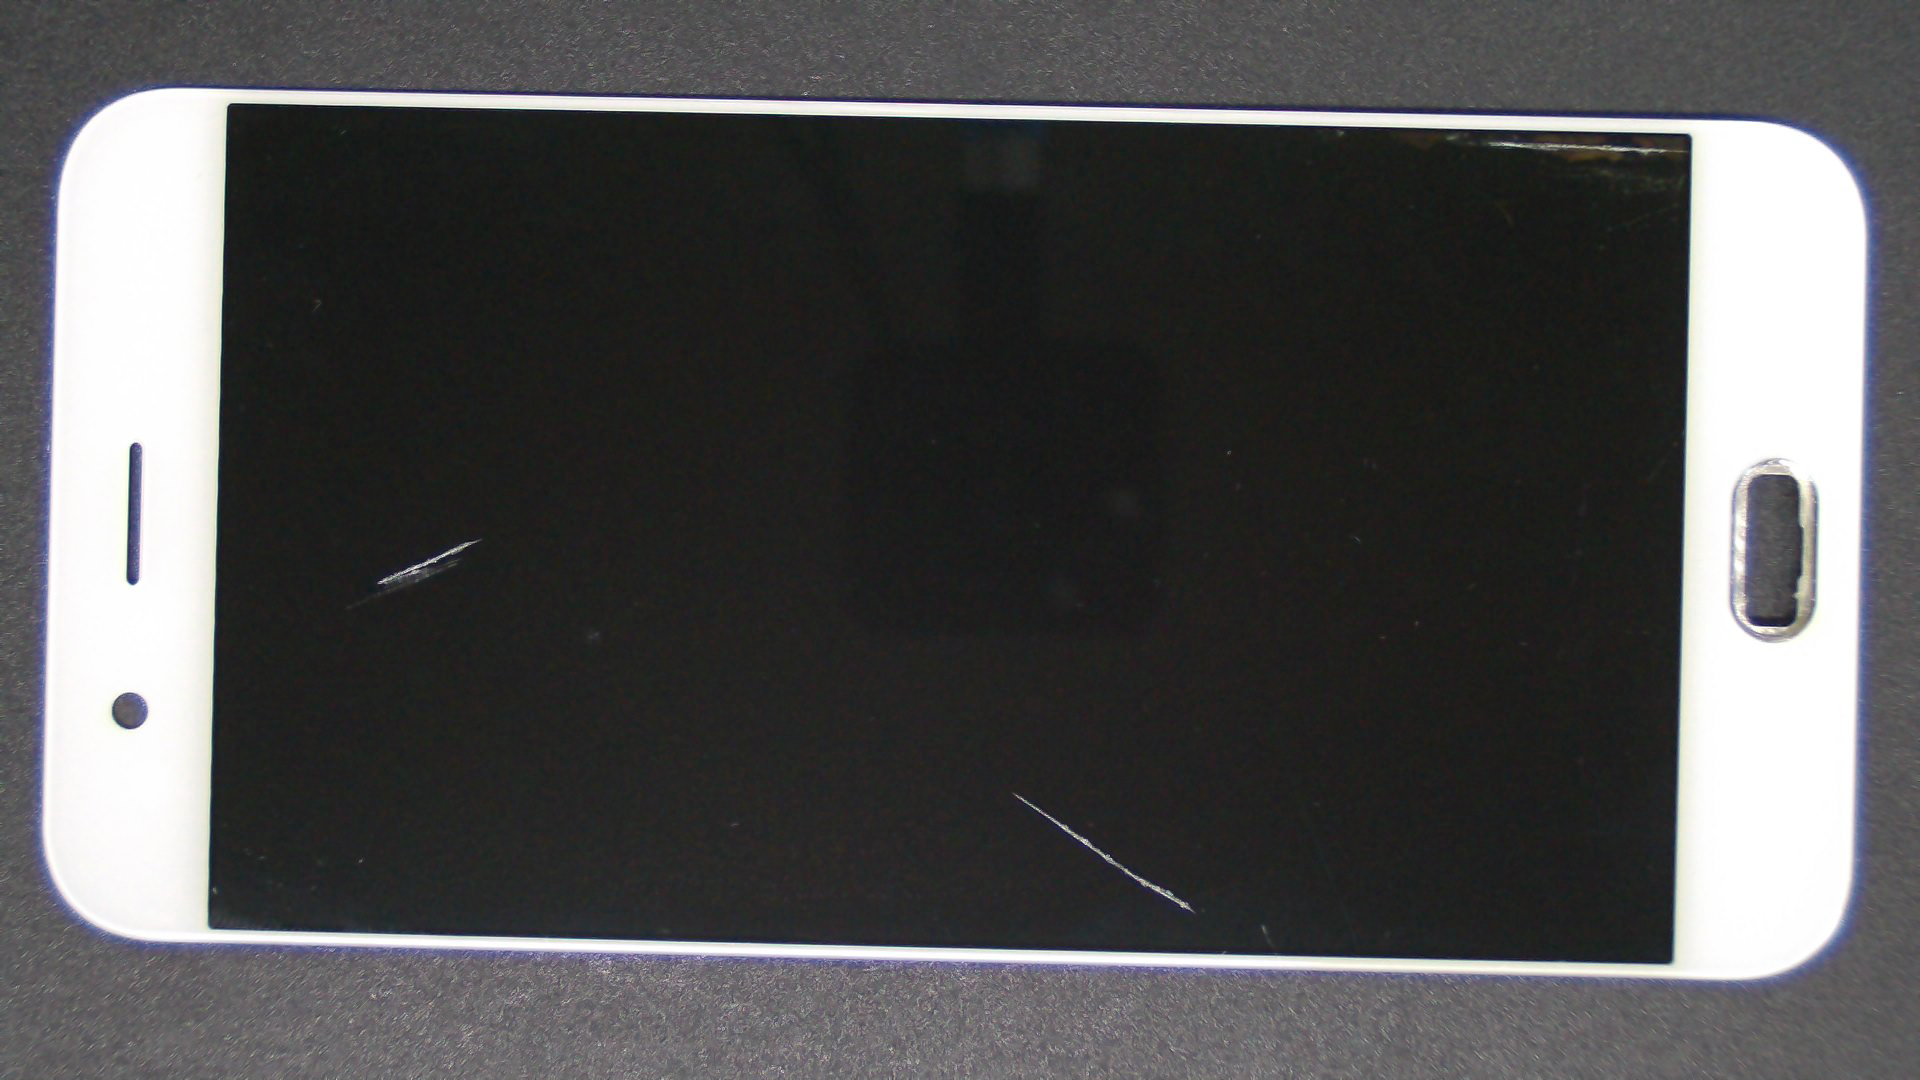defect: (1011, 791, 1196, 914), (349, 538, 483, 607), (1481, 140, 1688, 157)
